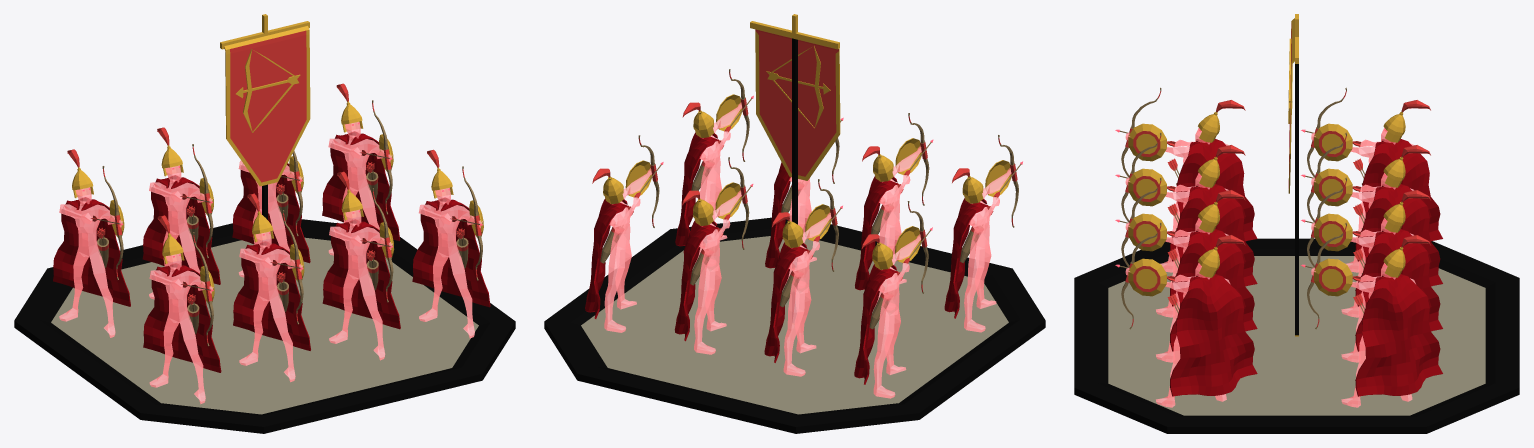
Rendered from red archer unit merged.fbx.
3 views of the same model, side by side, from view 1: azimuth 30°, elevation 25°; view 2: azimuth 150°, elevation 25°; view 3: azimuth 270°, elevation 25° (orthographic). The views are drawn at different scales.
Visible parts, largest first — view 1: Cube; view 2: Cube; view 3: Cube.
Boxes of the visible parts, x1,y1,x2,y2 form: Cube: (14,14,515,433); Cube: (544,14,1045,433); Cube: (1074,14,1519,433).
Bounding box in the file's own units: 500 × 398 × 500.
